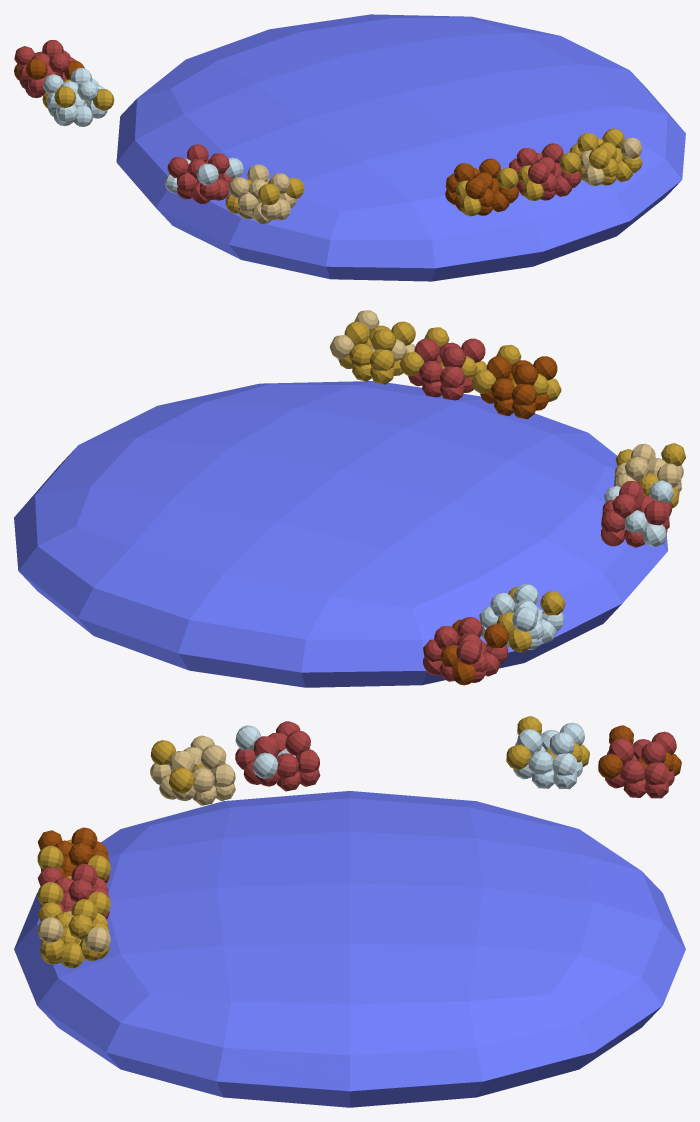
Rendered from market2.glb.
3 renders of one model, top to bottom at view 1: azimuth 30°, elevation 25°; view 2: azimuth 150°, elevation 25°; view 3: azimuth 270°, elevation 25°, orthographic. The views are drawn at different scales.
Parts seen in each view (by area): view 1: Plaza, Fruits.002, Fruits.003, Fruits.004, Fruits.001, Fruits, Fruits.005, Fruits.006; view 2: Plaza, Fruits.002, Fruits.006, Fruits.001, Fruits, Fruits.004, Fruits.005, Fruits.003; view 3: Plaza, Fruits.003, Fruits.004, Fruits.006, Fruits.005, Fruits, Fruits.002, Fruits.001.
Part boxes in pixels (<box>): Plaza: <box>116,14,685,281</box>; Fruits.002: <box>445,158,518,216</box>; Fruits.003: <box>225,164,304,224</box>; Fruits.004: <box>164,144,243,203</box>; Fruits.001: <box>508,143,581,200</box>; Fruits: <box>569,128,642,186</box>; Fruits.005: <box>42,68,114,126</box>; Fruits.006: <box>14,40,84,98</box>; Plaza: <box>14,381,667,687</box>; Fruits.002: <box>471,344,561,419</box>; Fruits.006: <box>423,617,509,685</box>; Fruits.001: <box>399,327,486,400</box>; Fruits: <box>329,310,415,384</box>; Fruits.004: <box>601,480,673,547</box>; Fruits.005: <box>479,584,565,652</box>; Fruits.003: <box>614,443,685,508</box>; Plaza: <box>14,791,685,1107</box>; Fruits.003: <box>150,735,235,805</box>; Fruits.004: <box>235,721,320,791</box>; Fruits.006: <box>598,725,681,798</box>; Fruits.005: <box>506,716,589,789</box>; Fruits: <box>37,899,110,968</box>; Fruits.002: <box>37,827,110,883</box>; Fruits.001: <box>37,864,110,919</box>.
Size of the model in its own units: 3.25 by 0.8048 by 3.09.
